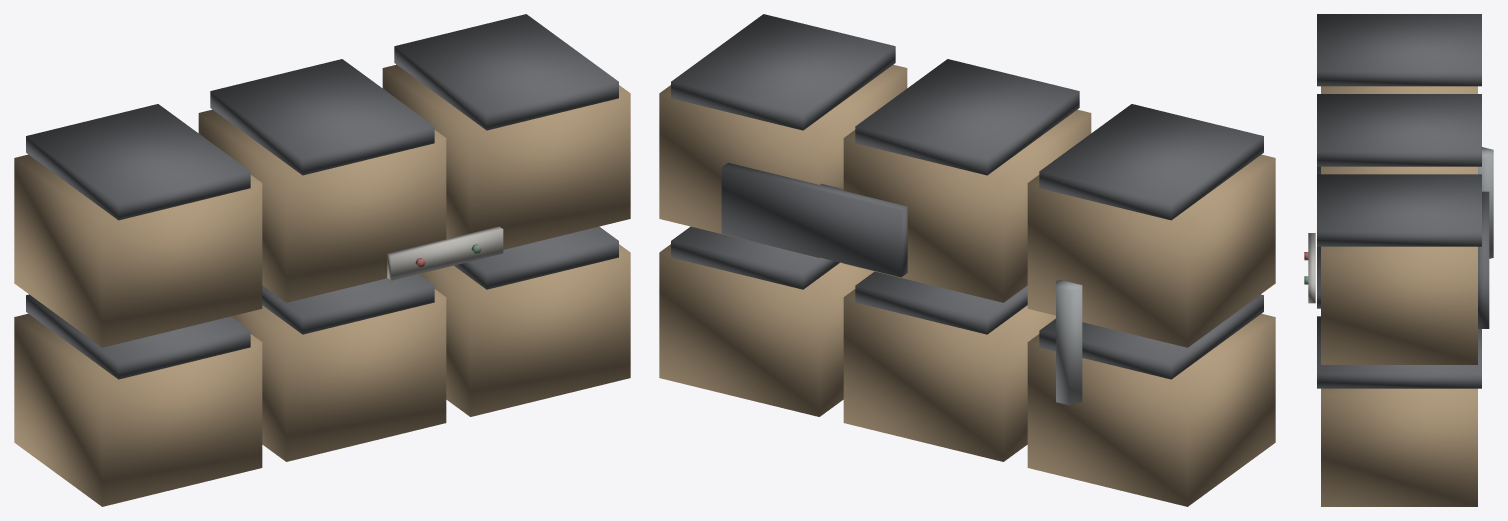
Rendered from fruit_crate_display__service.glb.
3 views of the same model, side by side, from view 1: azimuth 30°, elevation 25°; view 2: azimuth 150°, elevation 25°; view 3: azimuth 270°, elevation 25° (orthographic). The views are drawn at different scales.
Visible parts, largest first — view 1: world; view 2: world; view 3: world.
Boxes of the visible parts, bbox=[...] form: world: bbox=[14, 14, 630, 506]; world: bbox=[659, 14, 1275, 506]; world: bbox=[1304, 14, 1493, 506].
Bounding box in the file's own units: 1.32 × 0.72 × 0.4596.
